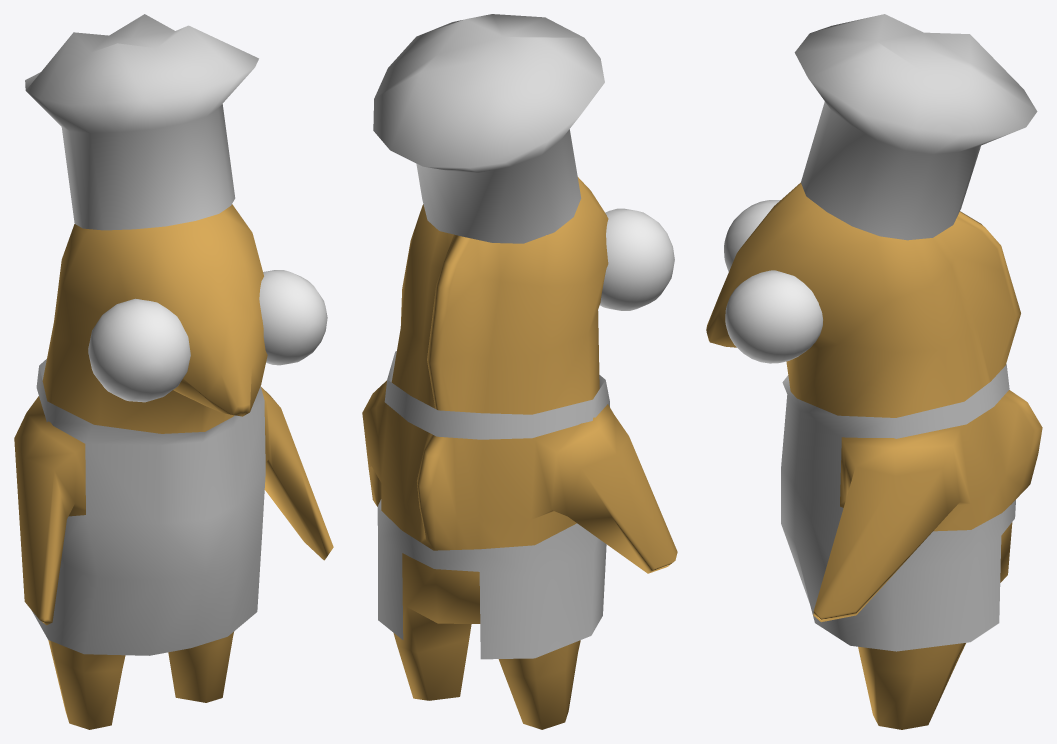
Rendered from softchef.fbx.
3 views of the same model, side by side, from view 1: azimuth 30°, elevation 25°; view 2: azimuth 150°, elevation 25°; view 3: azimuth 270°, elevation 25° (orthographic). The views are drawn at different scales.
Parts seen in each view (by area): view 1: MC1, Apron1, chefhat, eyes2; view 2: MC1, chefhat, Apron1, eyes2; view 3: MC1, chefhat, Apron1, eyes2.
Boxes of the visible parts, x1,y1,x2,y2 form: MC1: (14, 204, 333, 729); Apron1: (31, 359, 265, 655); chefhat: (25, 14, 258, 230); eyes2: (88, 270, 327, 402); MC1: (362, 177, 677, 729); chefhat: (373, 14, 604, 243); Apron1: (377, 351, 609, 659); eyes2: (600, 208, 674, 310); MC1: (706, 182, 1042, 729); chefhat: (794, 14, 1037, 240); Apron1: (781, 364, 1015, 651); eyes2: (724, 200, 822, 363).
Size of the model in its own units: 39.47 by 87.59 by 40.2.
